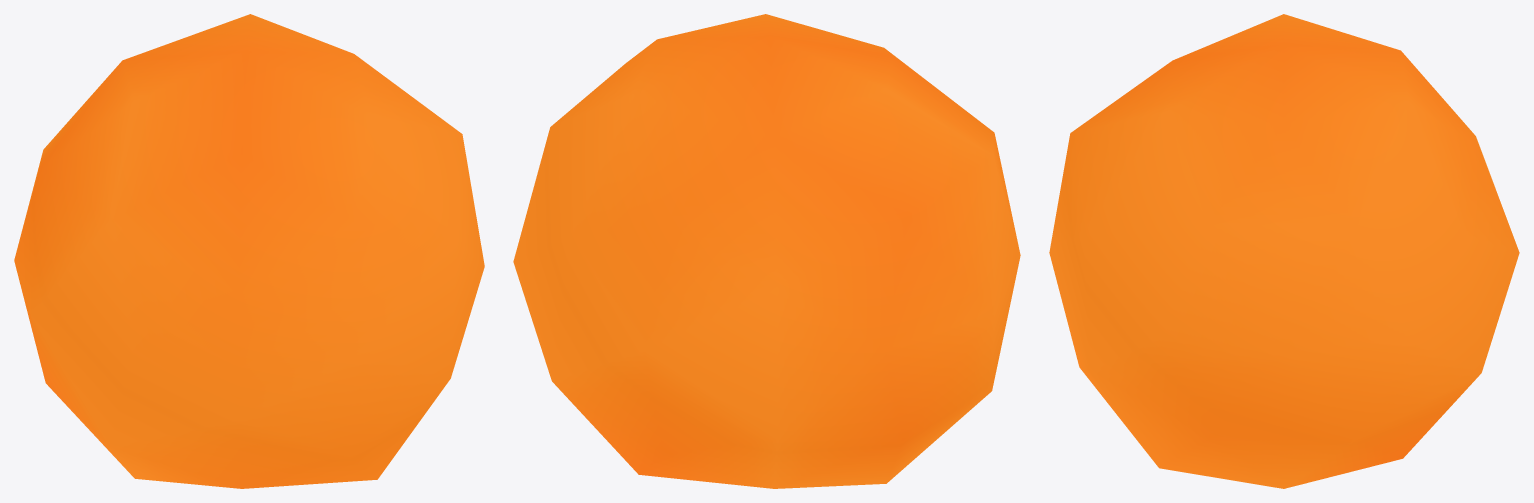
File: ember.glb
3 views of the same model, side by side, from view 1: azimuth 30°, elevation 25°; view 2: azimuth 150°, elevation 25°; view 3: azimuth 270°, elevation 25° (orthographic). The views are drawn at different scales.
Size of the model in its own units: 1.21 by 1.17 by 1.19.
